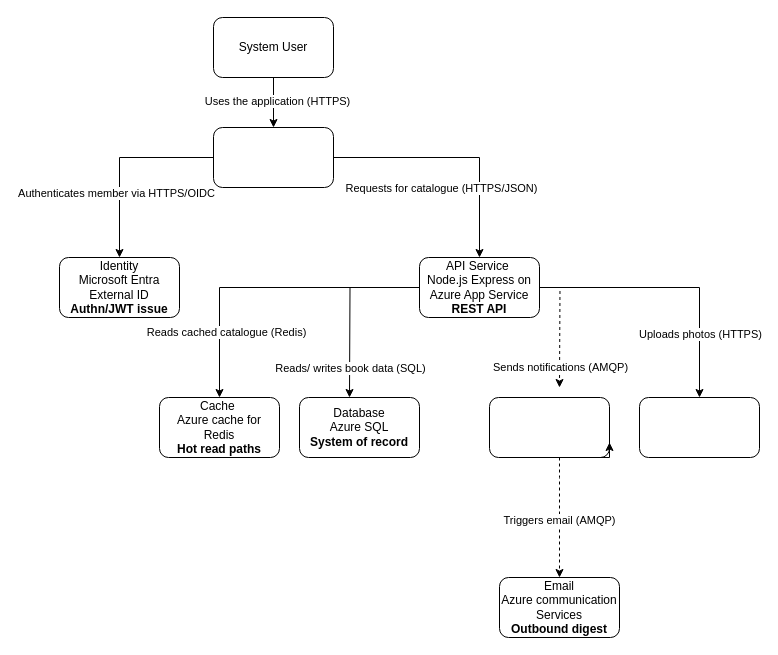
Image size: 778x655. Some labels were removed from this diagram. The centre of each missing label's shape, as x and y in pixels:
"Mobile App React Native Member facing UI" goes at (273,157).
"Object Store Azure Blob Storage Book Photo s" goes at (699,427).
"Queue Azure Service Bus Email digest, notifications" goes at (549,427).
